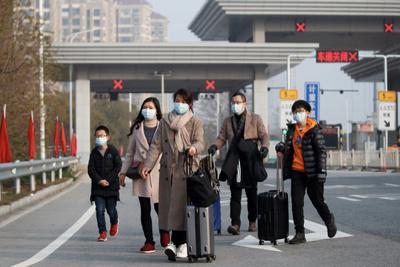OK: (176, 98, 190, 115), (143, 105, 157, 121), (232, 99, 244, 115), (294, 110, 307, 123), (96, 134, 108, 146)
